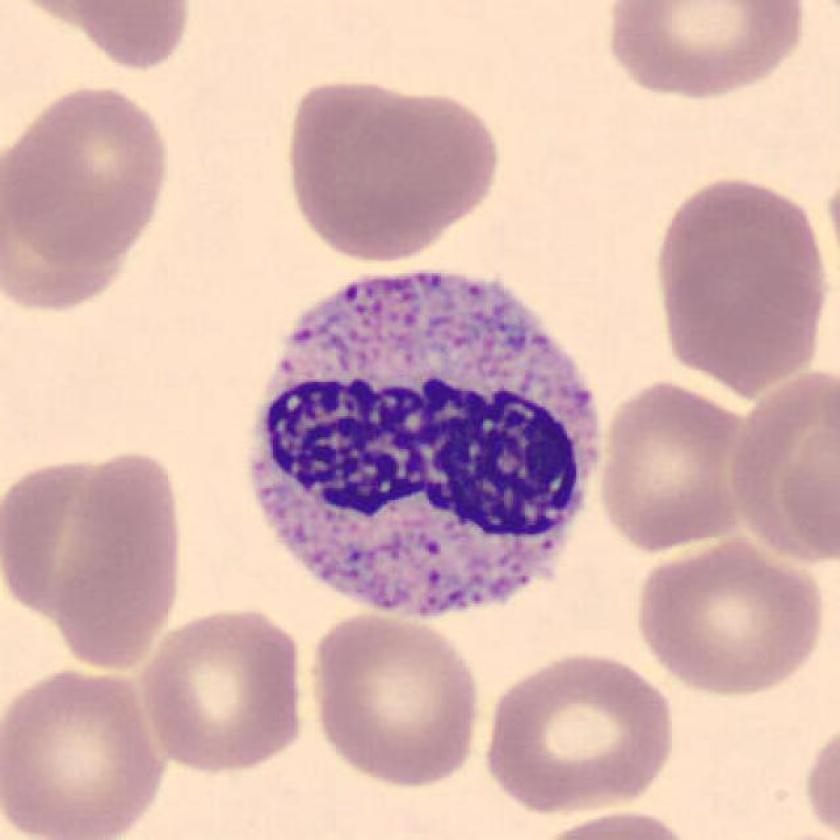neutrophil: (248, 273, 602, 621)
